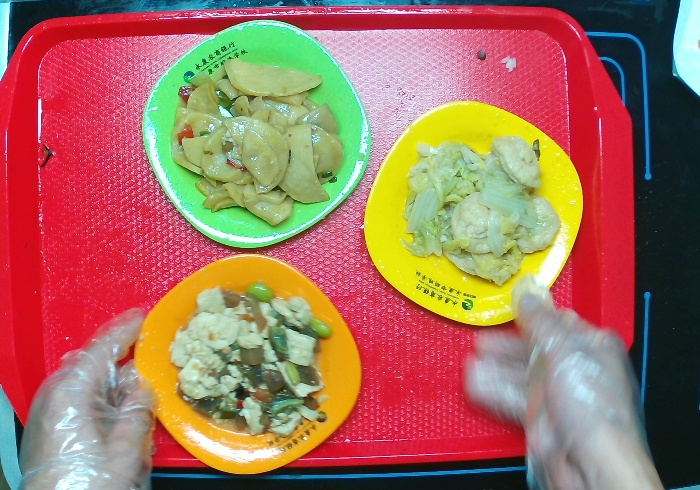YKMZ-Huang_Se_Fang_Die: (363, 98, 588, 330)
YKMZ-Ju_Se_Fang_Die: (128, 251, 365, 480)
YKMZ-Lv_Se_Fang_Die: (129, 14, 374, 256)
